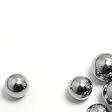ironball: (6, 68, 36, 97), (64, 71, 95, 99), (84, 52, 111, 80), (82, 102, 111, 111), (105, 77, 111, 109)
